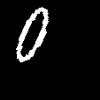chain: (16, 8, 47, 61)
